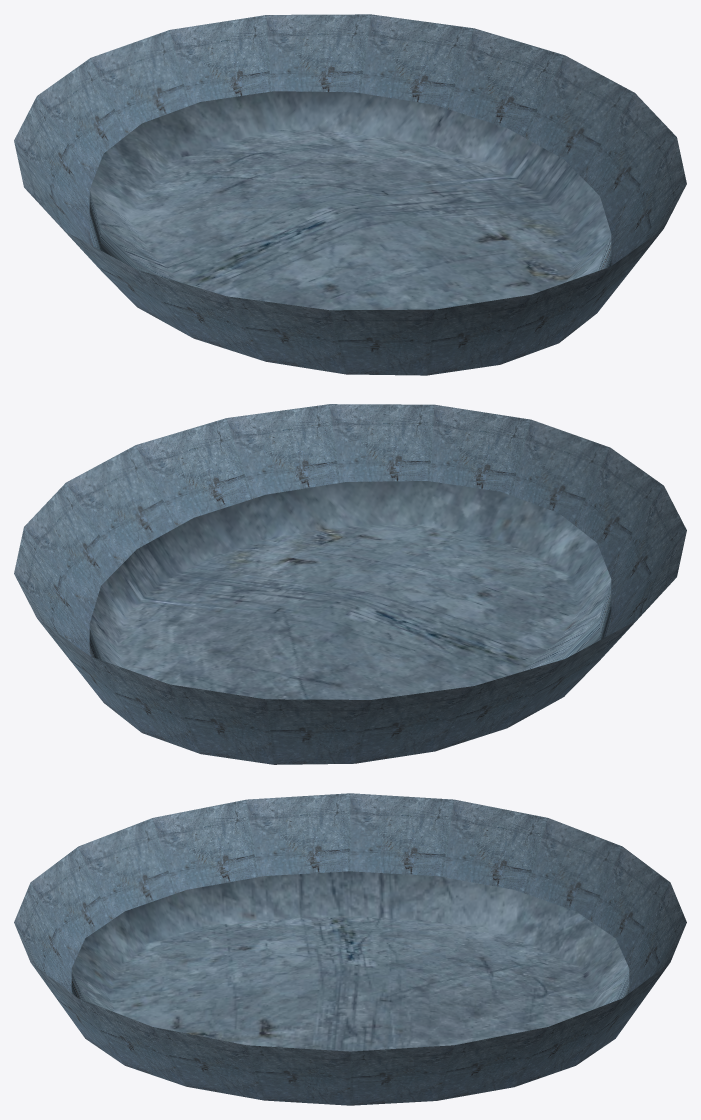
The model's file is bord.fbx.
3 renders of one model, top to bottom at view 1: azimuth 30°, elevation 25°; view 2: azimuth 150°, elevation 25°; view 3: azimuth 270°, elevation 25°, orthographic. The views are drawn at different scales.
Visible parts, largest first — view 1: pCylinder1; view 2: pCylinder1; view 3: pCylinder1.
Boxes of the visible parts, x1,y1,x2,y2 form: pCylinder1: (14,14,686,375); pCylinder1: (14,404,686,764); pCylinder1: (14,793,686,1105).
Size of the model in its own units: 0.3656 by 0.057 by 0.4025.
Materials: 1 (1 with a texture image).
